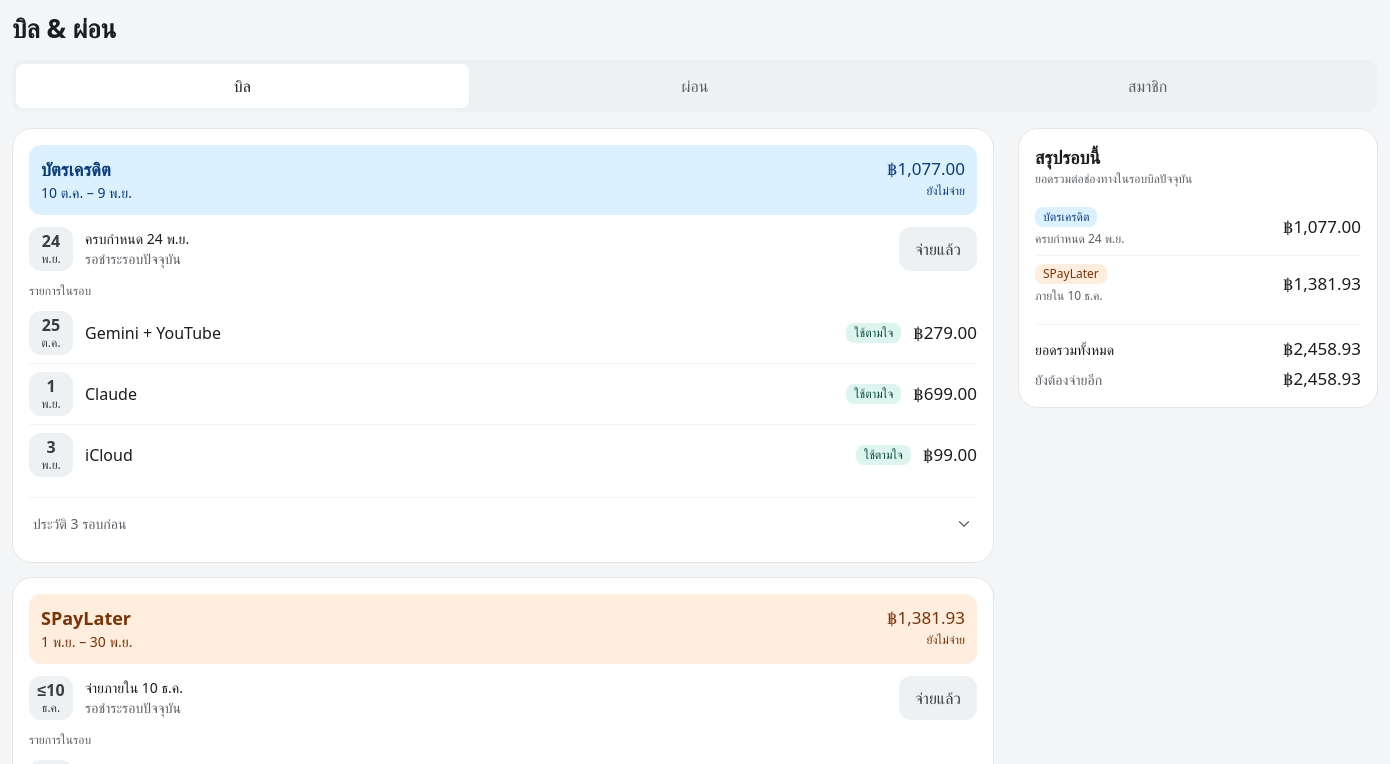
Scenario: <BillsPage> › แท็บผ่อน › shows AirPods installment as งวด 3/10 on 2026-11-15 with remaining total, end date, channel pill, and play-pot badge
Click the tab "ผ่อน": (695, 86) [469,64,921,108]
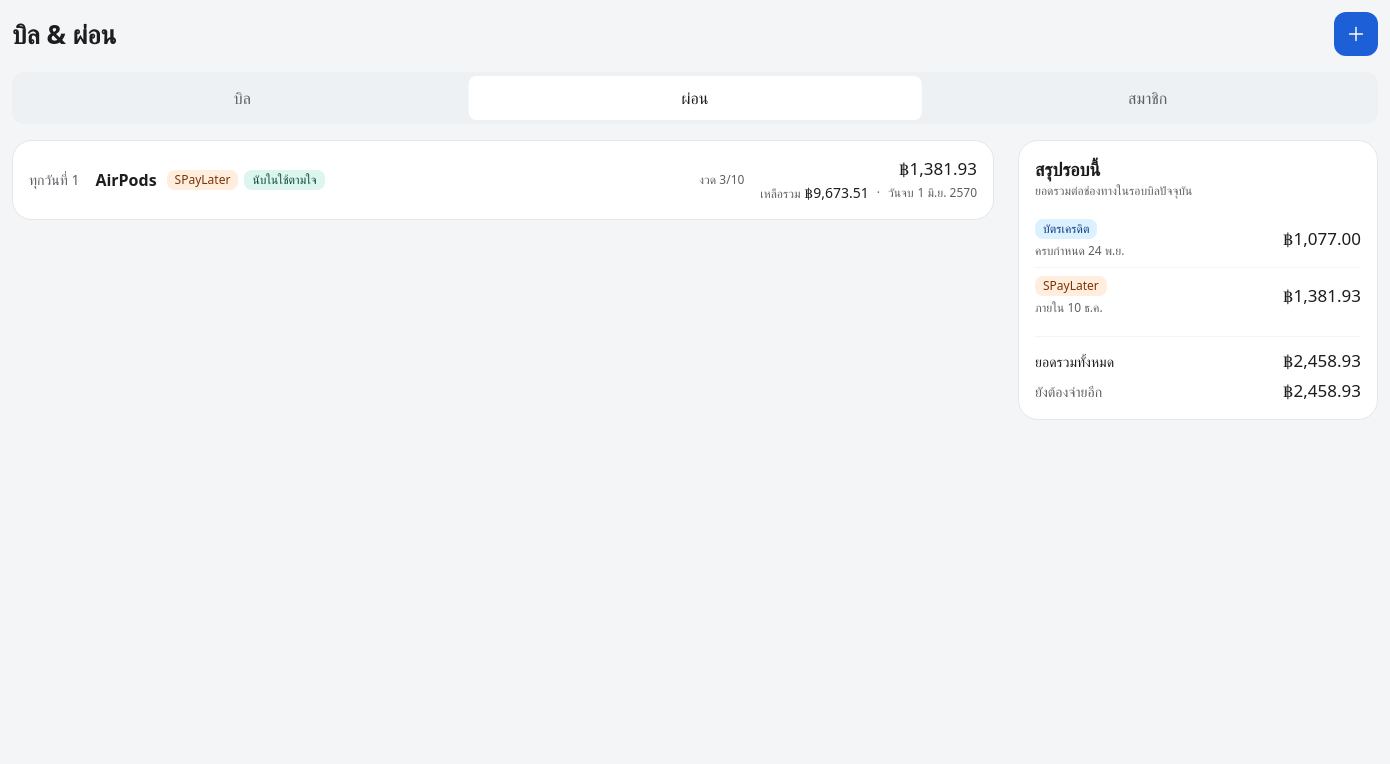
Check: the text "฿9,673" is shown, box [805,183,849,202]
Check: the text "1 มิ.ย. 2570" is shown, box [918,185,977,201]
Check: the text "นับในใช้ตามใจ" is shown, box [244,170,325,190]
